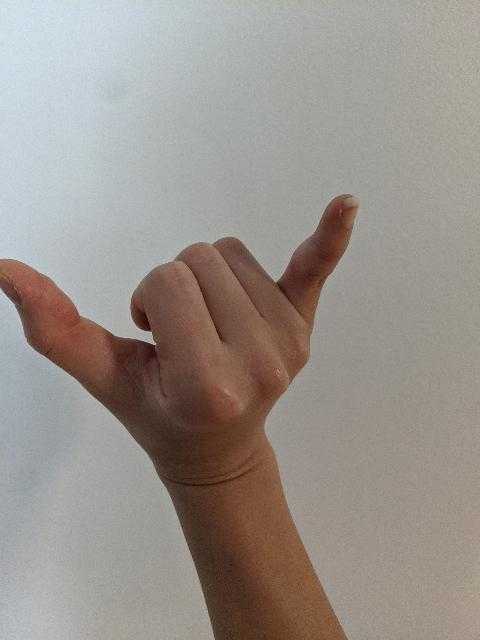Y: (0, 190, 362, 446)
